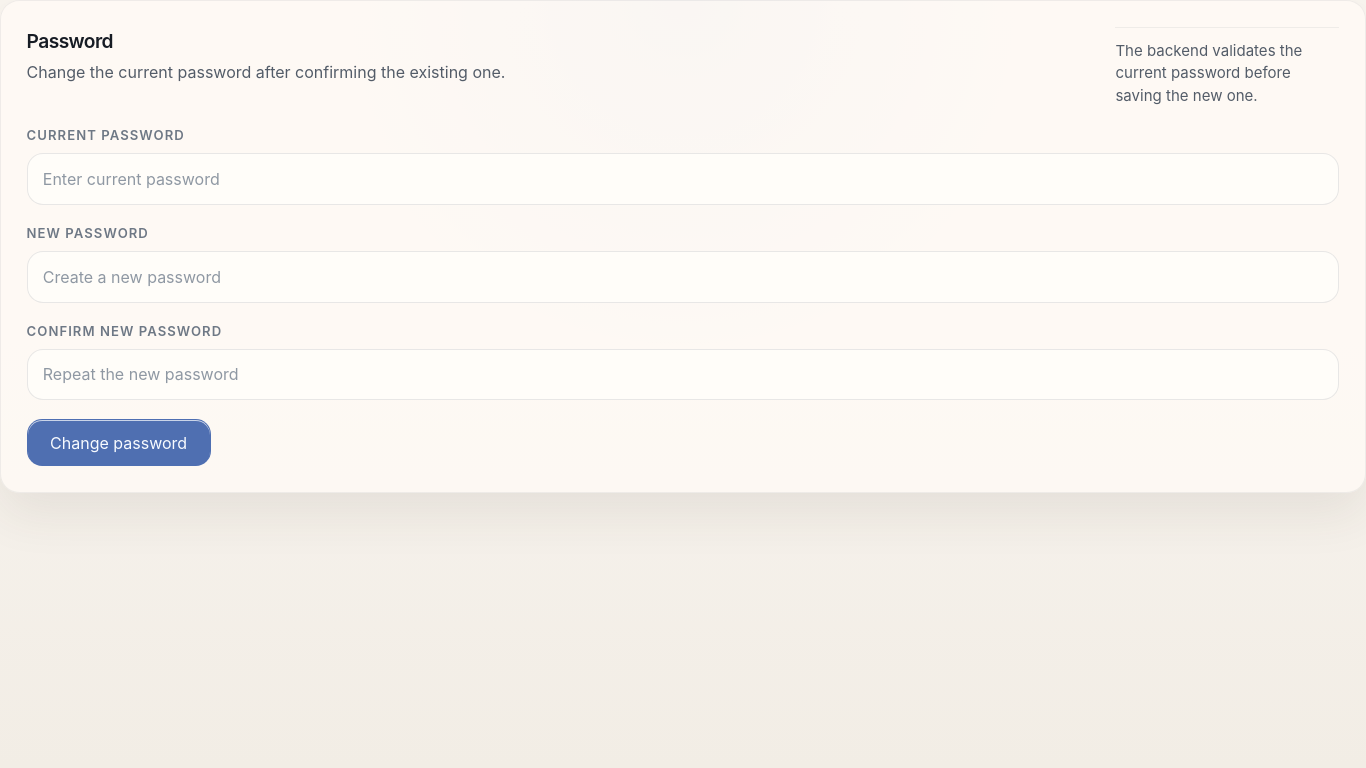
PasswordChangeSection › shows a validation error when confirmation does not match
Step 1. Type "old-password" into the password field labelled "Current password" → point(683, 179), box [27,153,1339,205]
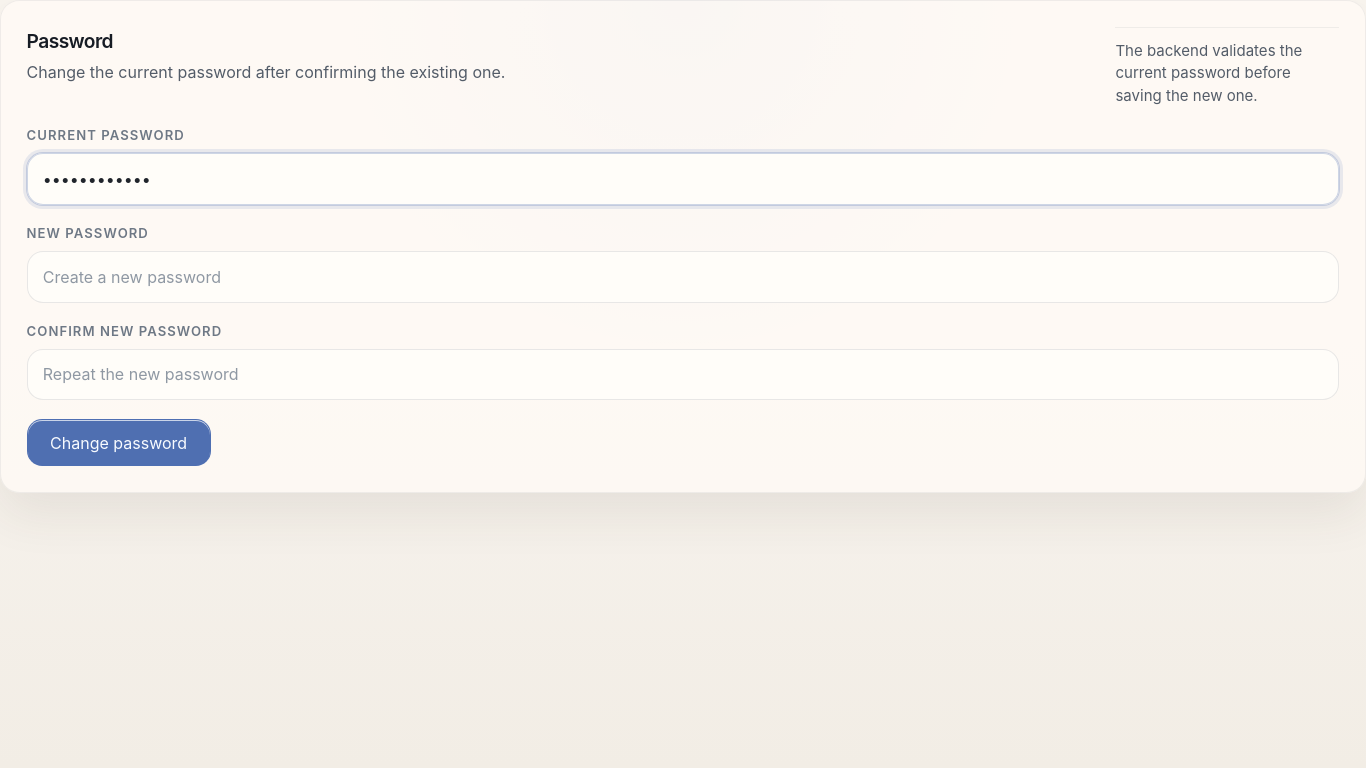
Step 2. Type "new-password-123" into the password field labelled "New password" → point(683, 277), box [27,251,1339,303]
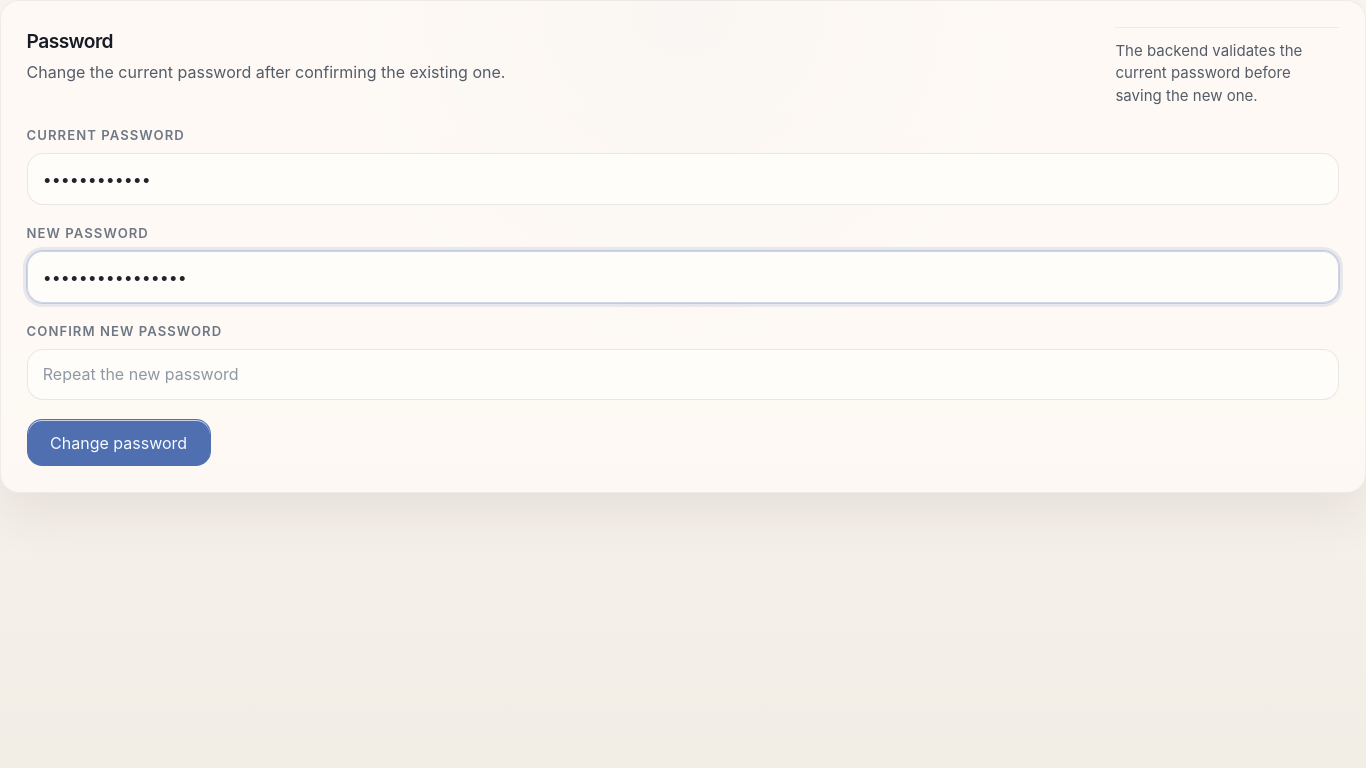
Step 3. Type "different-password" into the password field labelled "Confirm new password" → point(683, 374), box [27,349,1339,400]
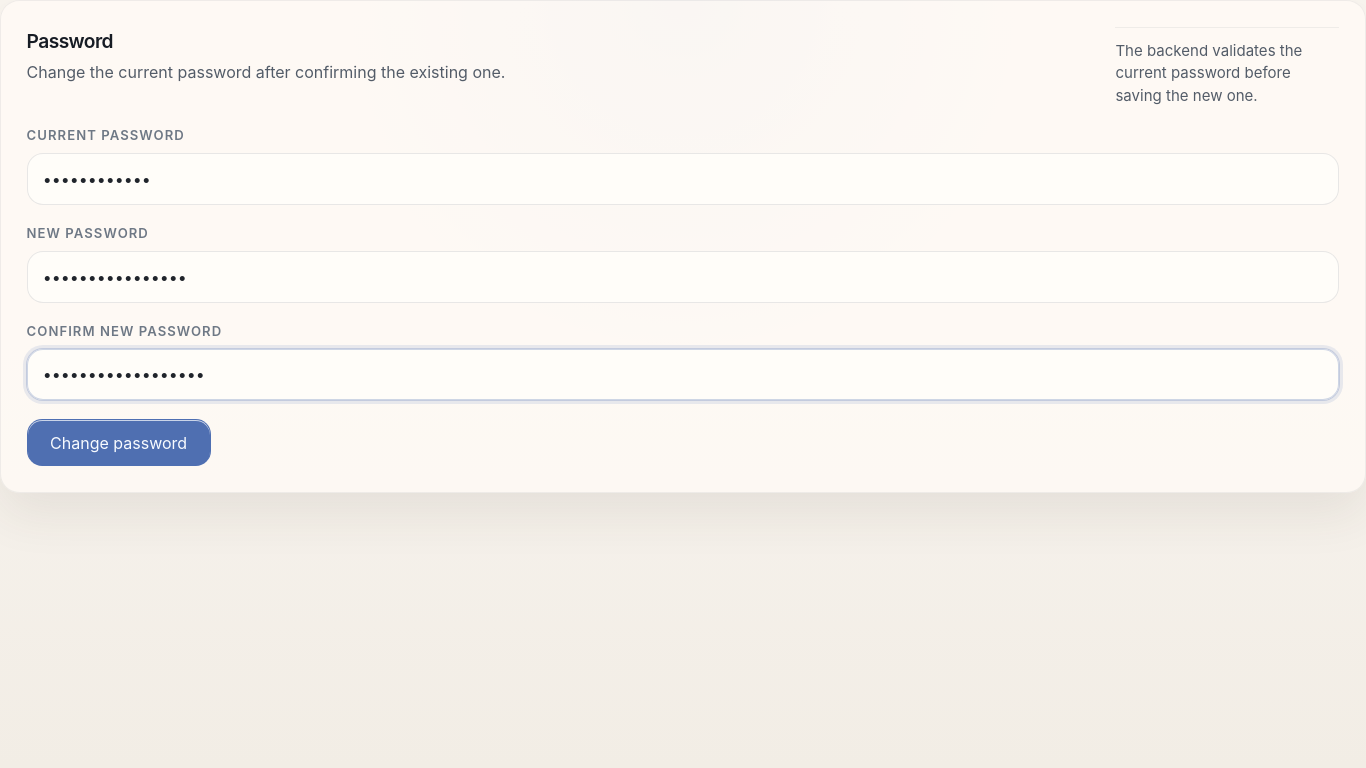
Step 4. Click the button "Change password" → point(119, 443), box [27,419,211,466]
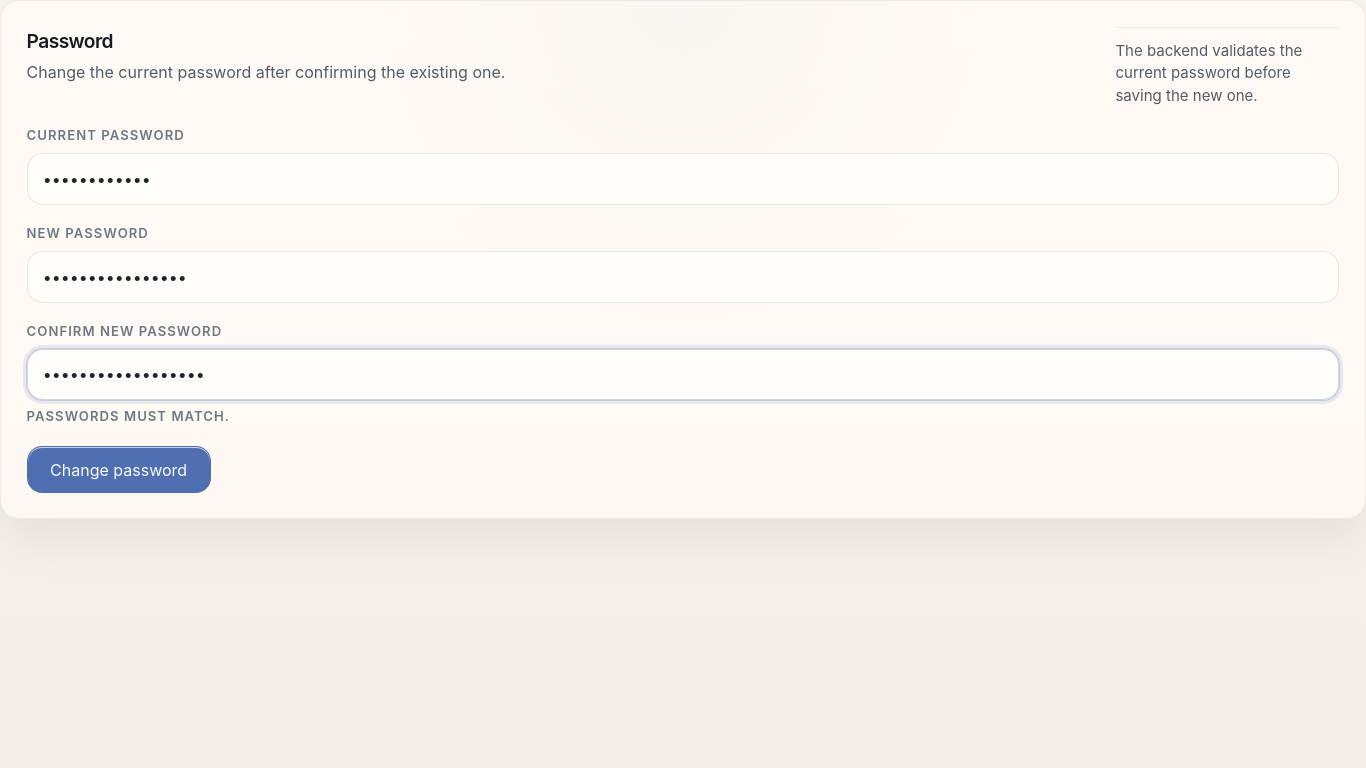
Expected: the message reads "Passwords must match.", [27,408,230,424]
